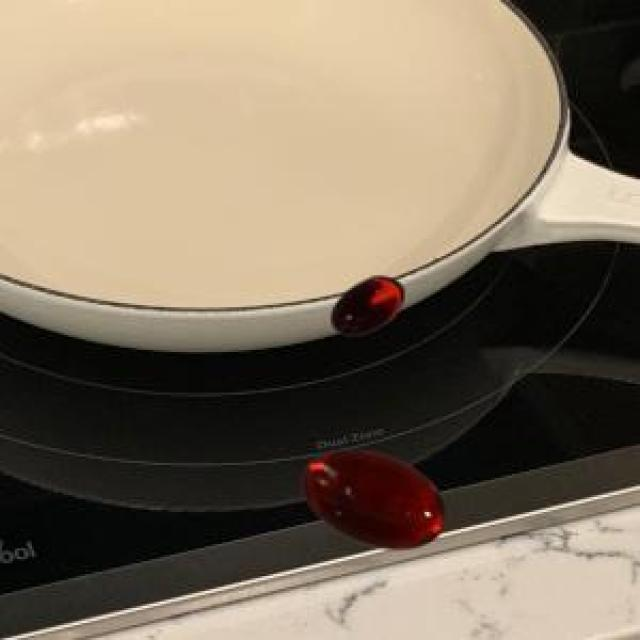Medicol: (295, 436, 456, 558), (322, 270, 412, 346)
